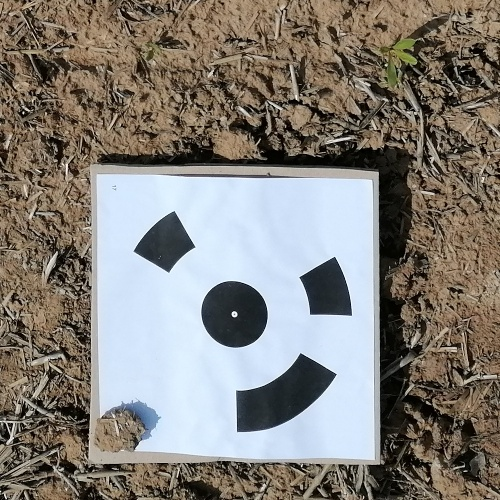beet: (377, 38, 417, 89)
